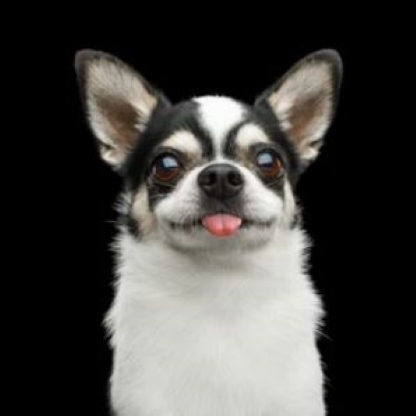chihuahua: (74, 43, 343, 416)
